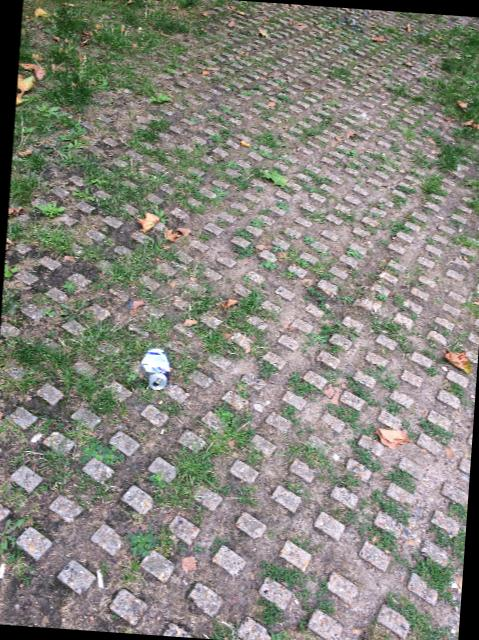metal: (140, 346, 169, 388)
